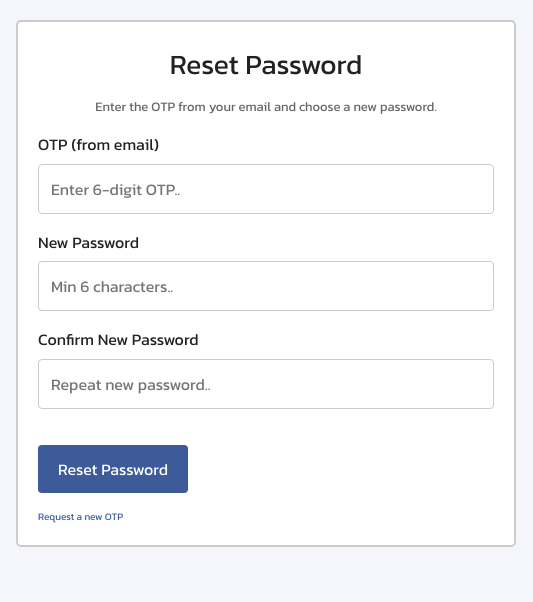
Test: ResetPassword — server interaction › shows server error for wrong OTP
Type "wrong1" into the field with placeholder "Enter 6-digit OTP..". click: (266, 188)
box: [38, 164, 494, 214]
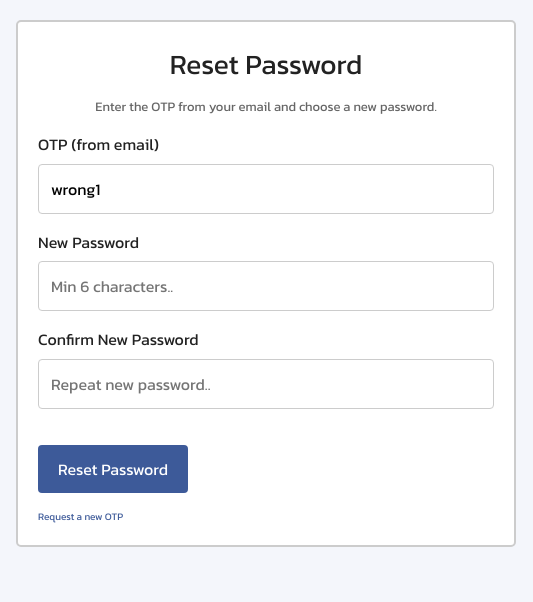
Type "newpass1" into the password field with placeholder "Min 6 characters..". click: (266, 286)
box: [38, 261, 494, 311]
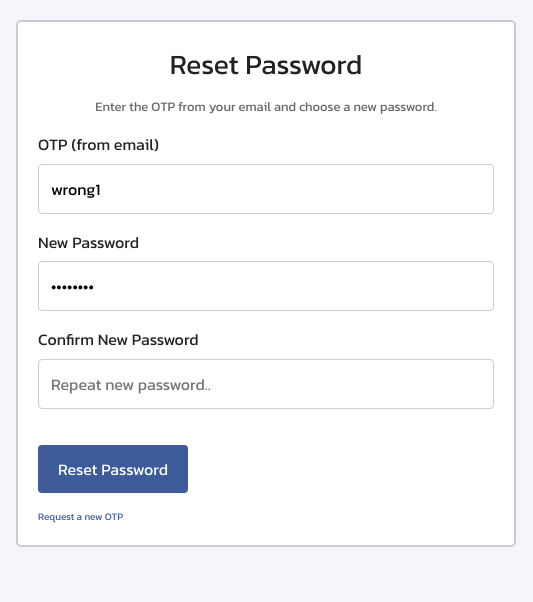
Type "newpass1" into the password field with placeholder "Repeat new password..". click: (266, 384)
box: [38, 359, 494, 409]
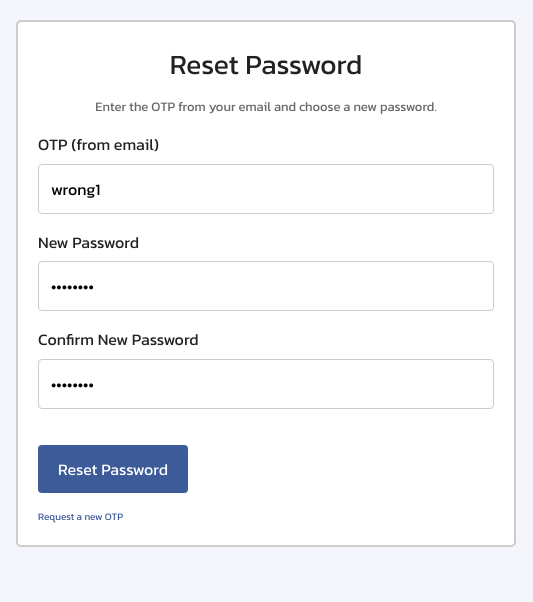
Click the button showing "Reset Password". click: (113, 469)
box: [38, 445, 188, 493]
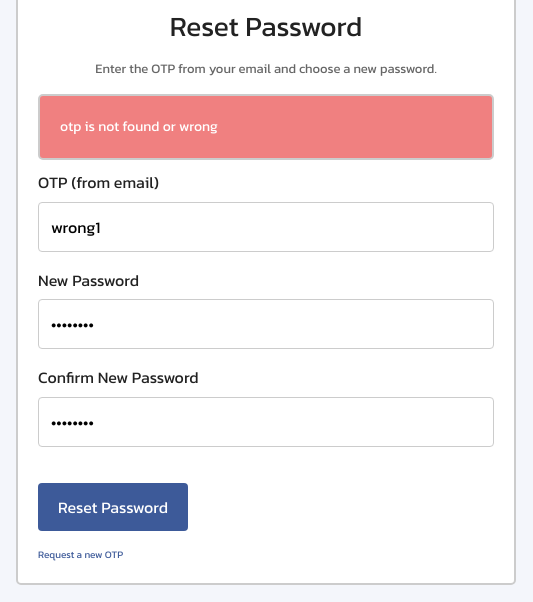
Expected: the text "otp is not found or wrong" is shown, [38, 94, 494, 160]
